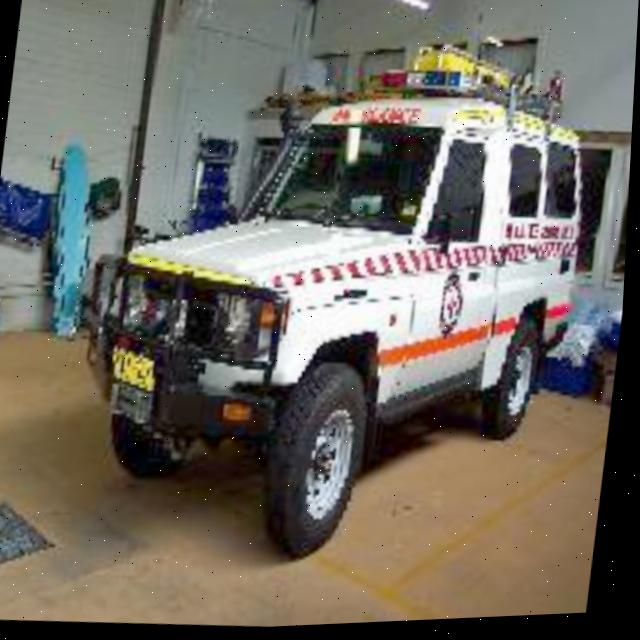emergency: (76, 27, 604, 574)
